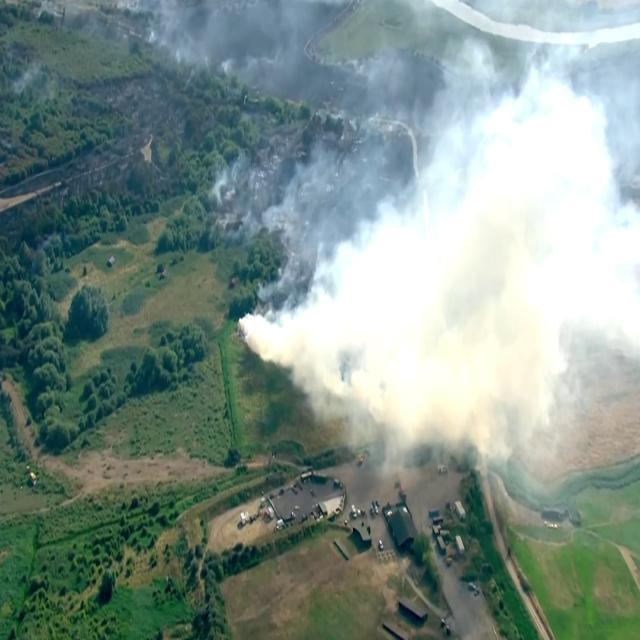Smoke: (378, 244, 459, 405)
